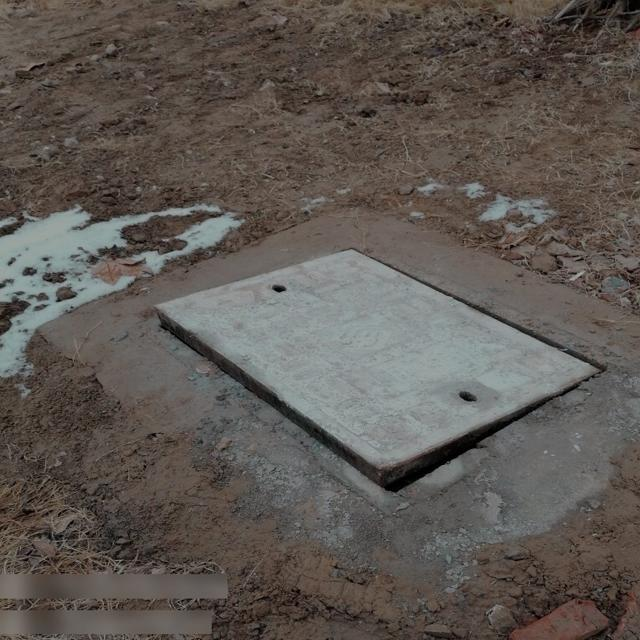uncovered: (143, 243, 629, 511)
